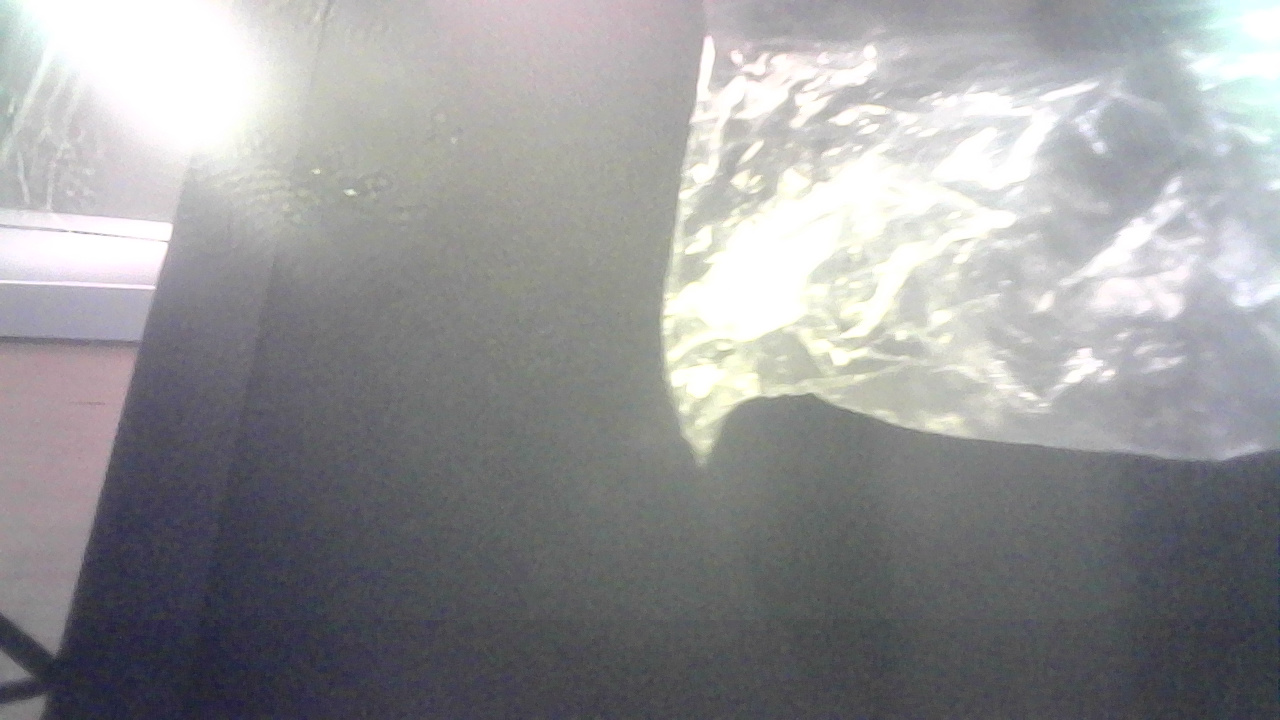Plastic_Recycling: (662, 14, 1278, 473)
